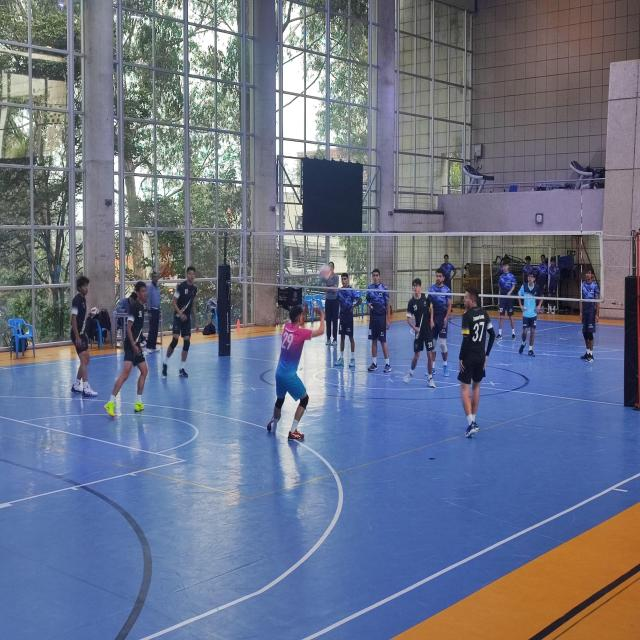volleyball: (319, 264, 332, 283), (91, 307, 99, 317)
